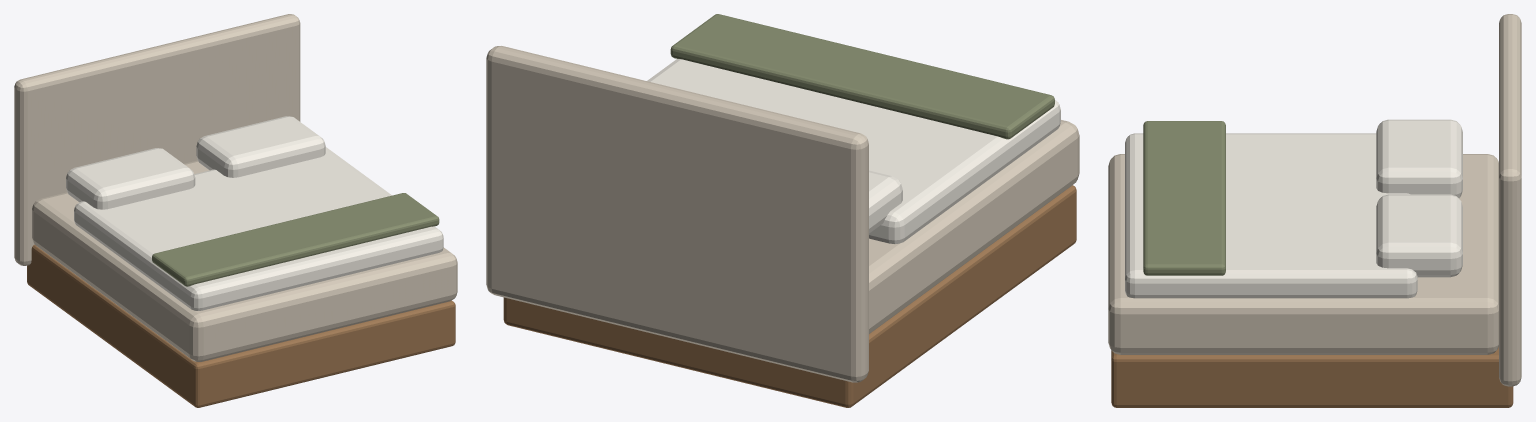
Rendered from upholstered-bed.glb.
3 renders of one model, left to right at view 1: azimuth 30°, elevation 25°; view 2: azimuth 150°, elevation 25°; view 3: azimuth 270°, elevation 25°, orthographic. The views are drawn at different scales.
Visible parts, largest first — view 1: Oak plinth; view 2: Oak plinth; view 3: Oak plinth.
Boxes of the visible parts, bbox=[...] form: Oak plinth: bbox=[14, 14, 457, 407]; Oak plinth: bbox=[486, 14, 1079, 407]; Oak plinth: bbox=[1108, 14, 1521, 407].
Bounding box in the file's own units: 1.86 × 1.3 × 2.
